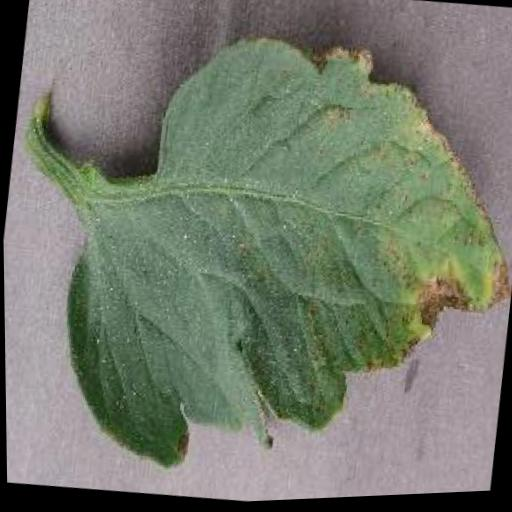Bacterial Spot: (38, 4, 512, 511)
